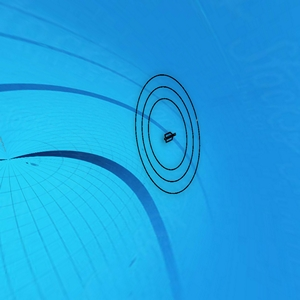circle: (131, 71, 206, 197)
submarine: (162, 130, 179, 145)
